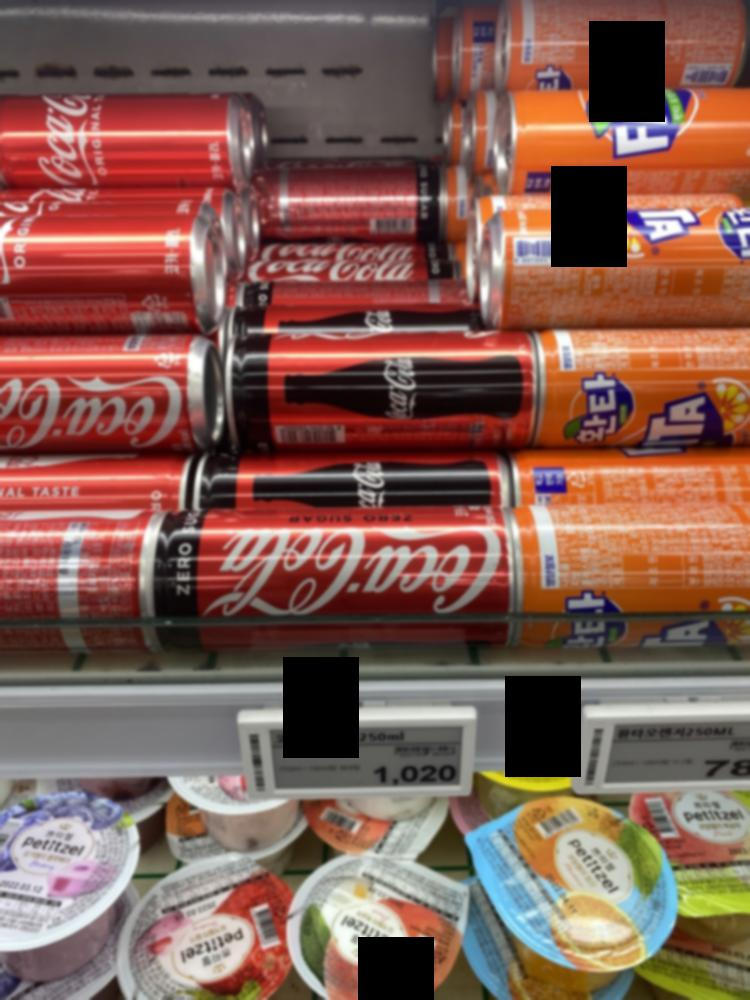cocacola_zero: (146, 498, 532, 648)
